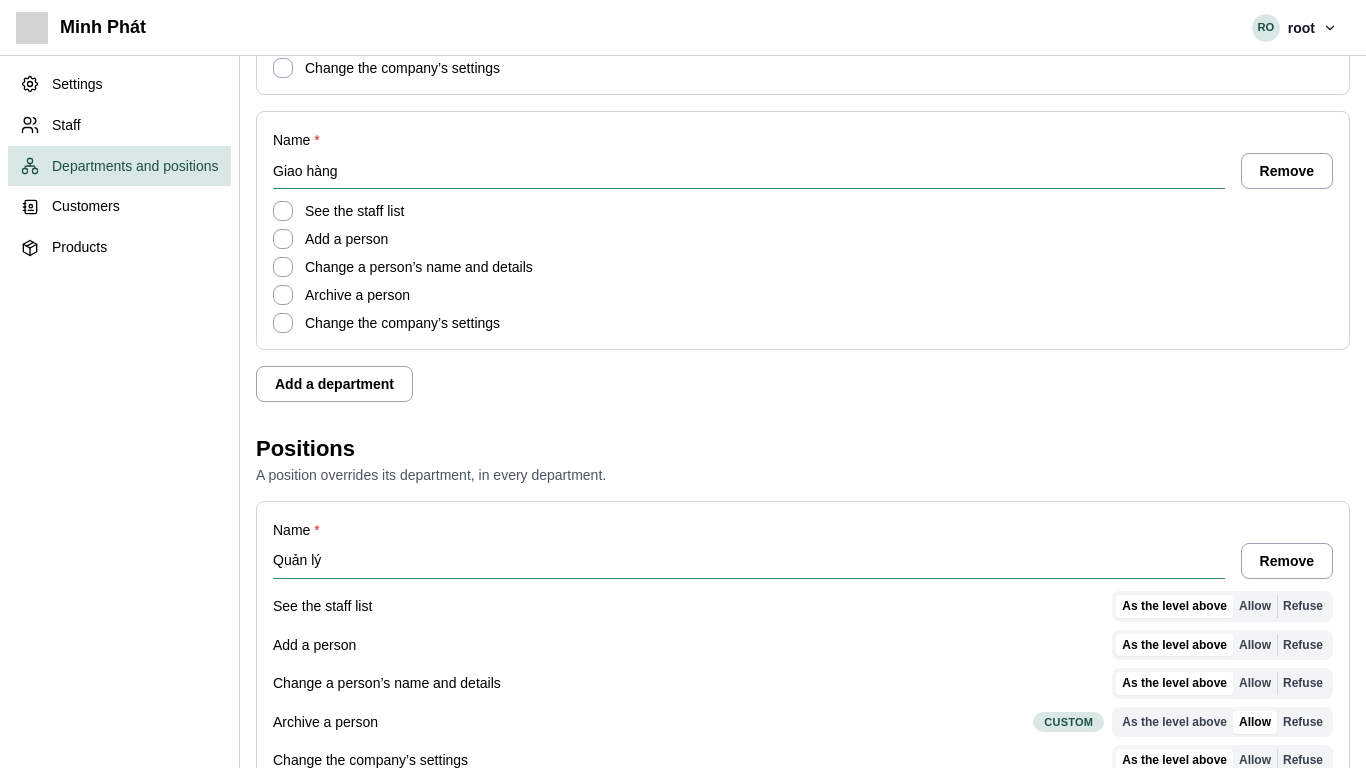
Test: the staff setup page › A department that never said anything about seeing, and allows changing, says it needs seeing
(page scrolled)
Click the button "Add a department" at [334, 384], box [256,366,413,402]
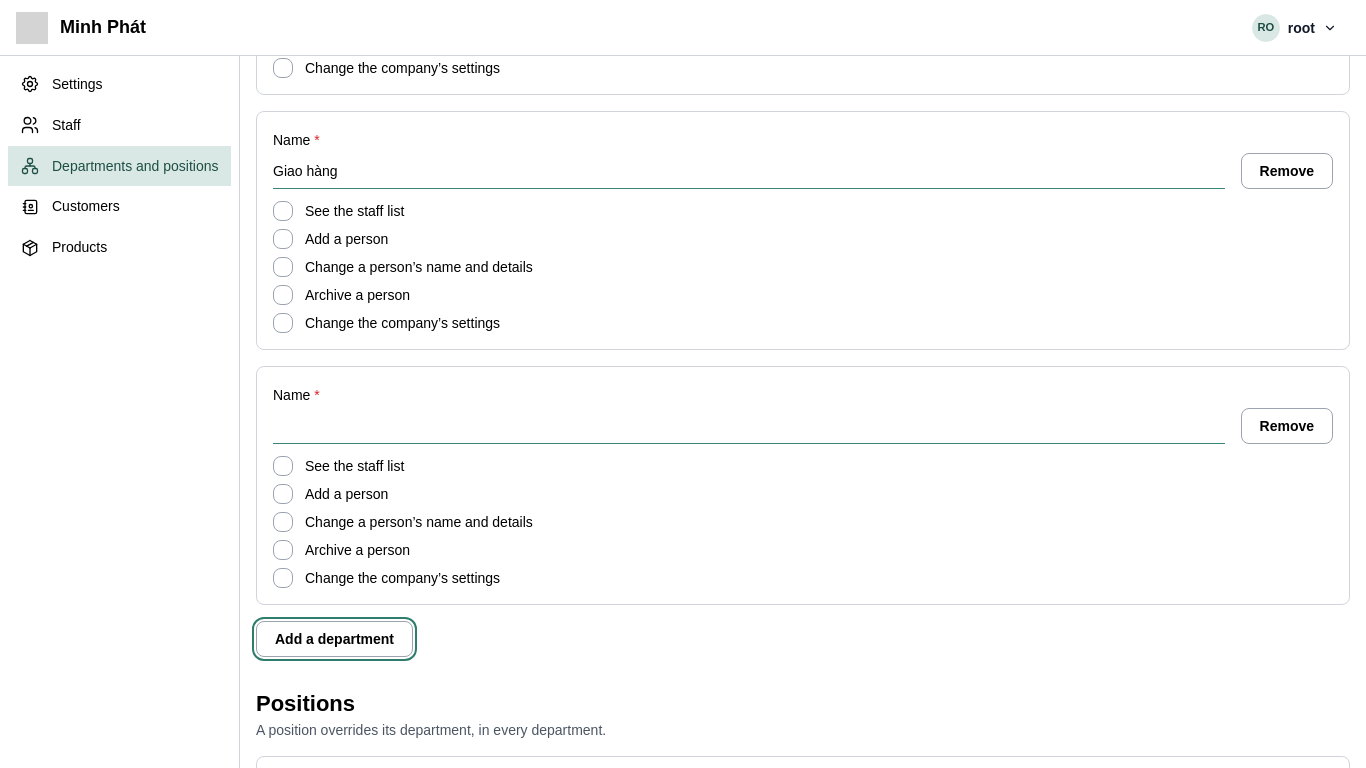
Click the 2nd checkbox labelled "Archive a person" at [283, 550], box [273,540,293,560]
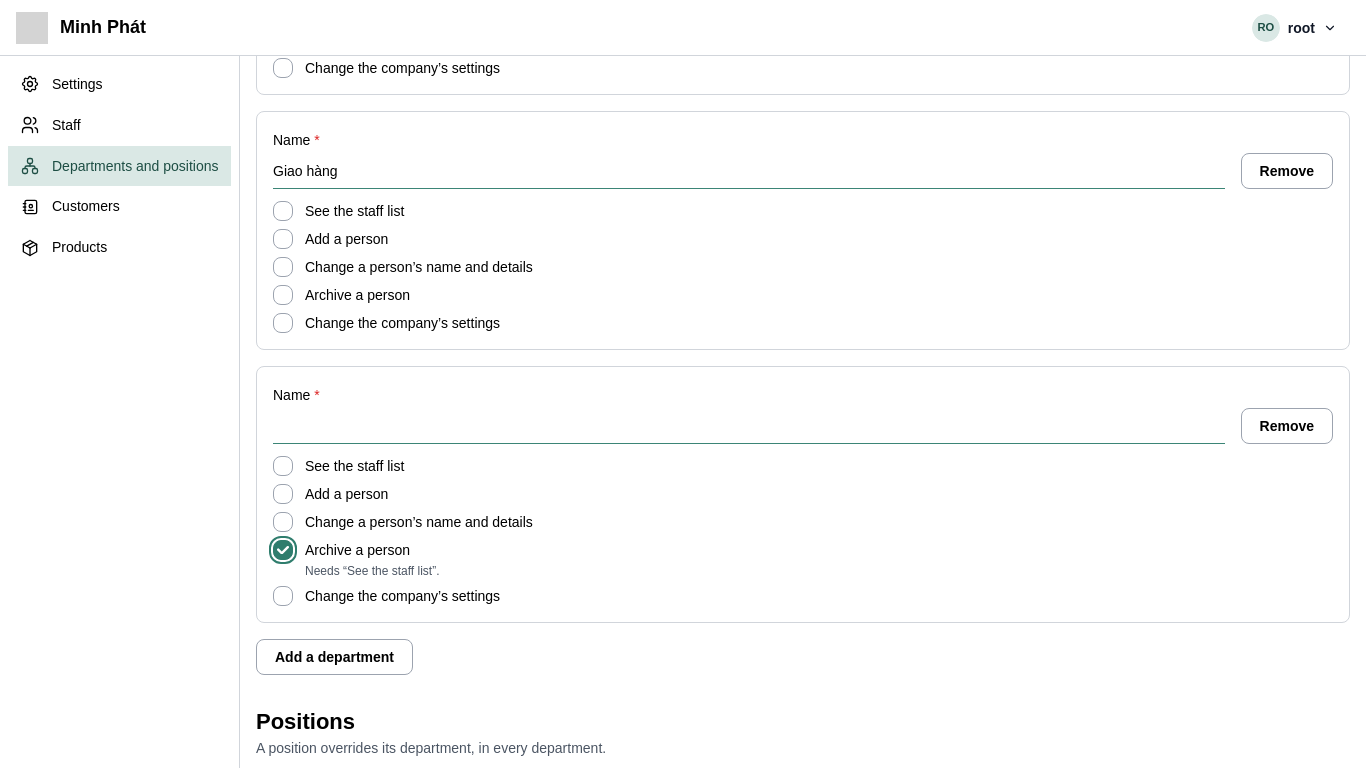
Expected: the text "Needs “See the staff list”." is shown once, [293,564,440,578]
